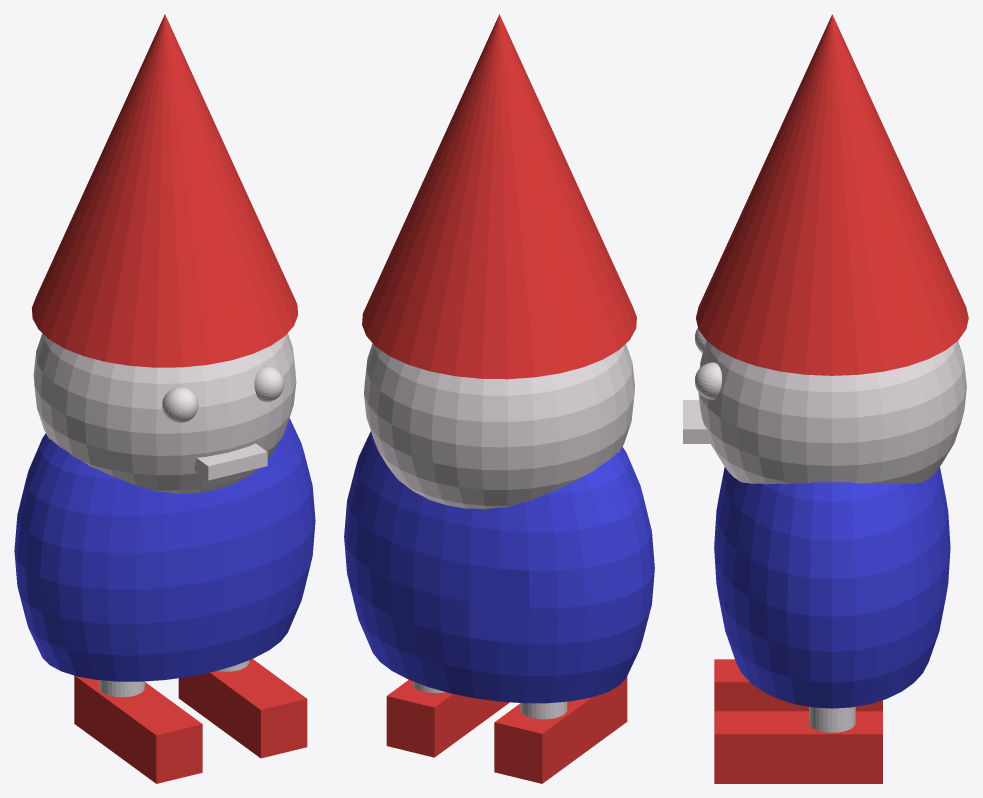
File: Gnome.fbx
3 renders of one model, left to right at view 1: azimuth 30°, elevation 25°; view 2: azimuth 150°, elevation 25°; view 3: azimuth 270°, elevation 25°, orthographic. The views are drawn at different scales.
Visible parts, largest first — view 1: Hat; view 2: Hat; view 3: Hat.
Boxes of the visible parts, x1,y1,x2,y2 form: Hat: (14, 14, 315, 783); Hat: (344, 14, 654, 783); Hat: (683, 14, 968, 783).
Bounding box in the file's own units: 1.29 × 1.13 × 3.16.
